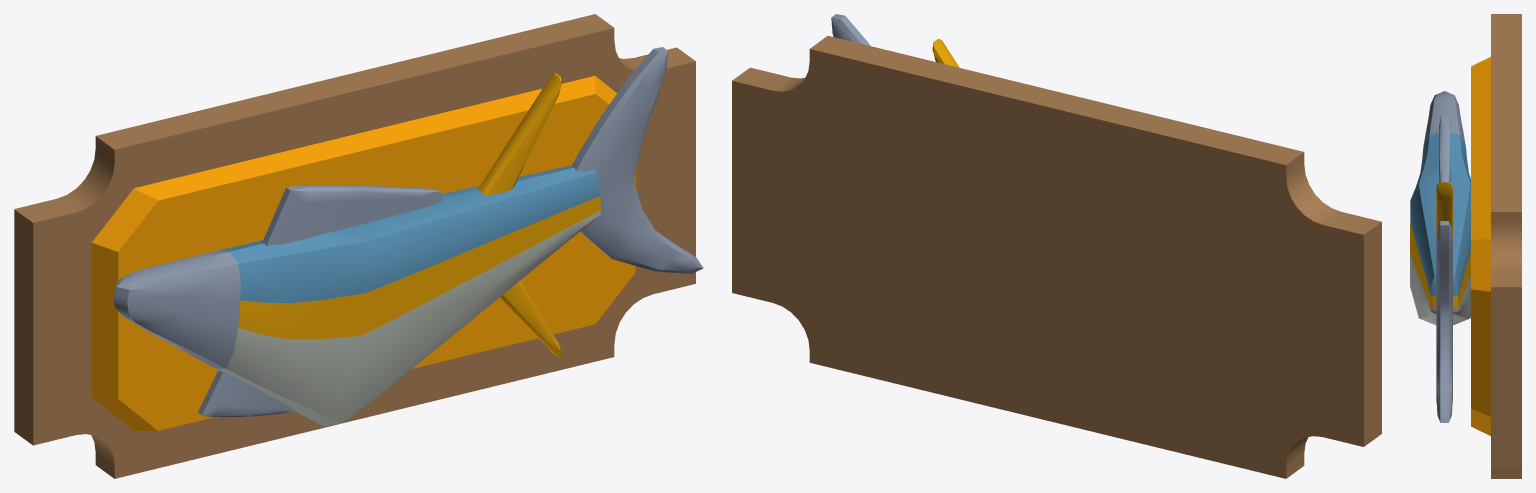
Rendered from Decoration Fish.glb.
3 renders of one model, left to right at view 1: azimuth 30°, elevation 25°; view 2: azimuth 150°, elevation 25°; view 3: azimuth 270°, elevation 25°, orthographic. The views are drawn at different scales.
Parts seen in each view (by area): view 1: Decoration_Fish; view 2: Decoration_Fish; view 3: Decoration_Fish.
Boxes of the visible parts, x1,y1,x2,y2 form: Decoration_Fish: (14,14,703,478); Decoration_Fish: (732,14,1381,478); Decoration_Fish: (1410,14,1521,478).
Size of the model in its own units: 3.02 by 1.44 by 0.5443.
1 material, 1 textured.
